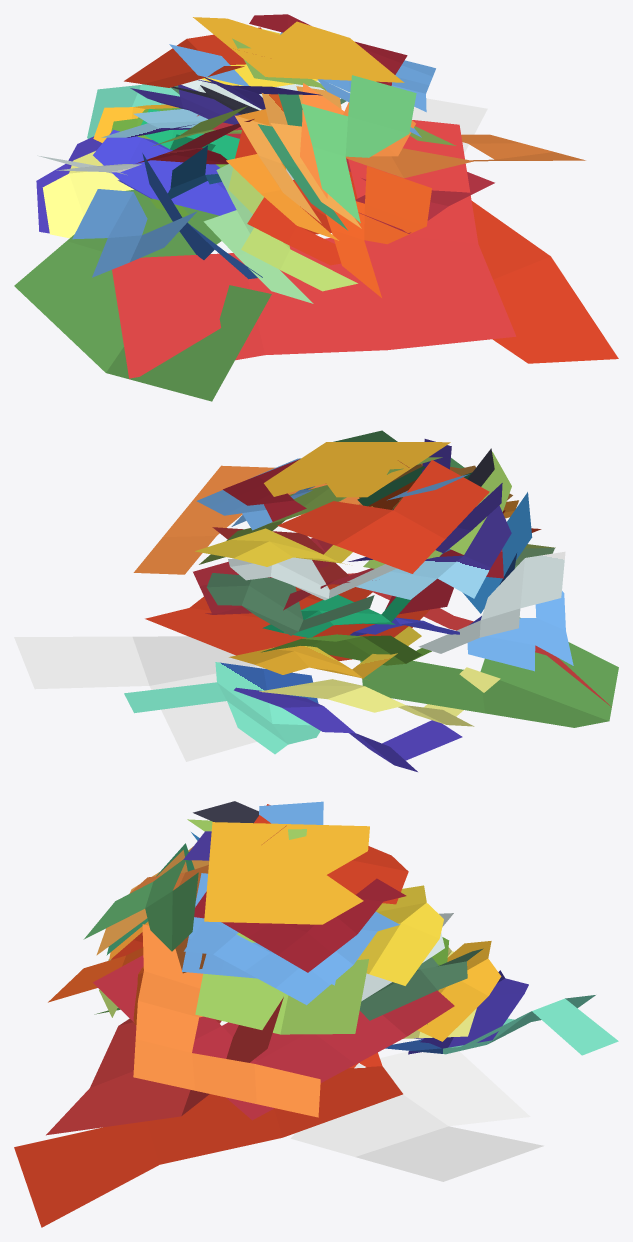
Rendered from papelesCortados.001.fbx.
The picture shows the model from 3 angles, top to bottom: view 1: azimuth 30°, elevation 25°; view 2: azimuth 150°, elevation 25°; view 3: azimuth 270°, elevation 25°; orthographic projection. The views are drawn at different scales.
Visible parts, largest first — view 1: papelesCortados.001; view 2: papelesCortados.001; view 3: papelesCortados.001.
Part boxes in pixels (x1,y1,x2,y2): papelesCortados.001: [14, 14, 618, 401]; papelesCortados.001: [14, 430, 618, 771]; papelesCortados.001: [14, 801, 618, 1227].
Size of the model in its own units: 191 by 97.92 by 192.
